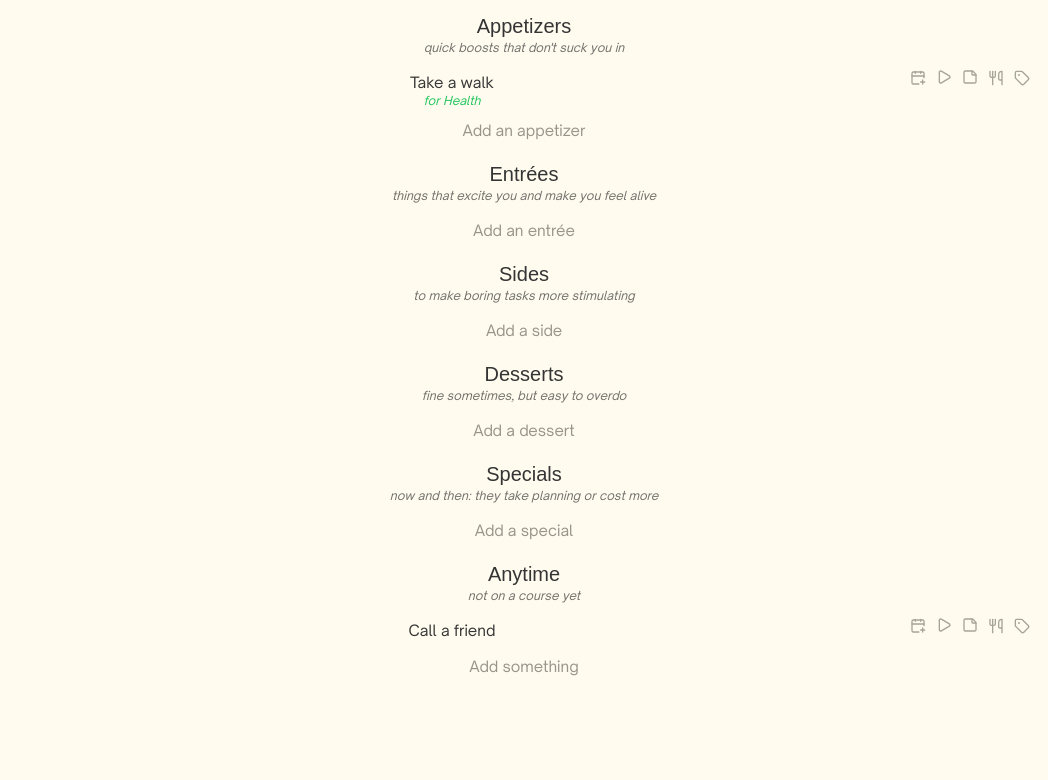
Test: DopamineMenuList › edits an item's text in place
This screenshot has width=1048, height=780.
Click the button "Take a walk". click: (452, 83)
box: [12,65,892,101]
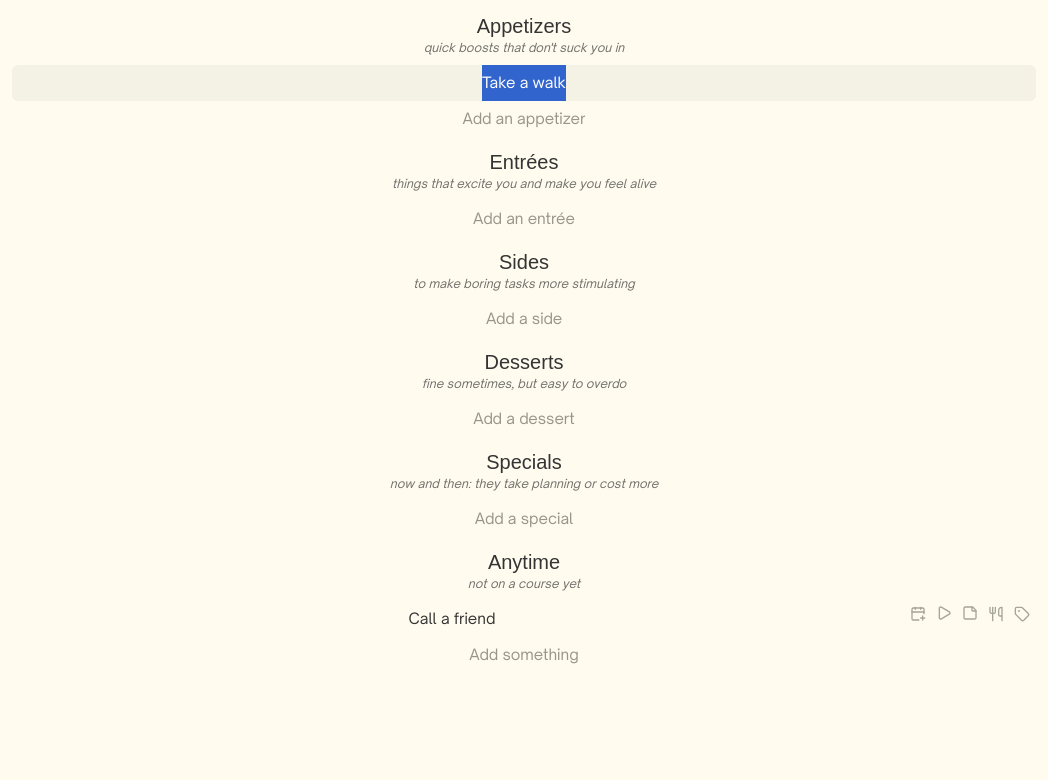
Replace the text in the text box named "Item text" with "Take a long walk". click: (524, 83)
box: [12,65,1036,101]
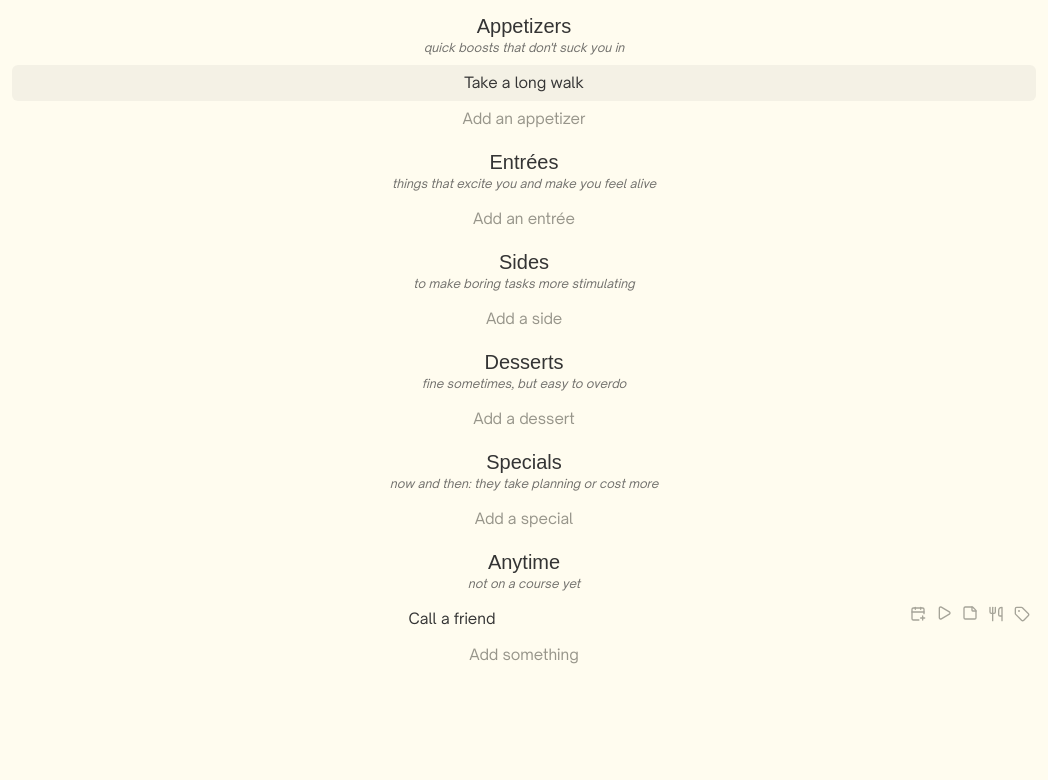
Press Enter in the text box named "Item text", box [12,65,1036,101]
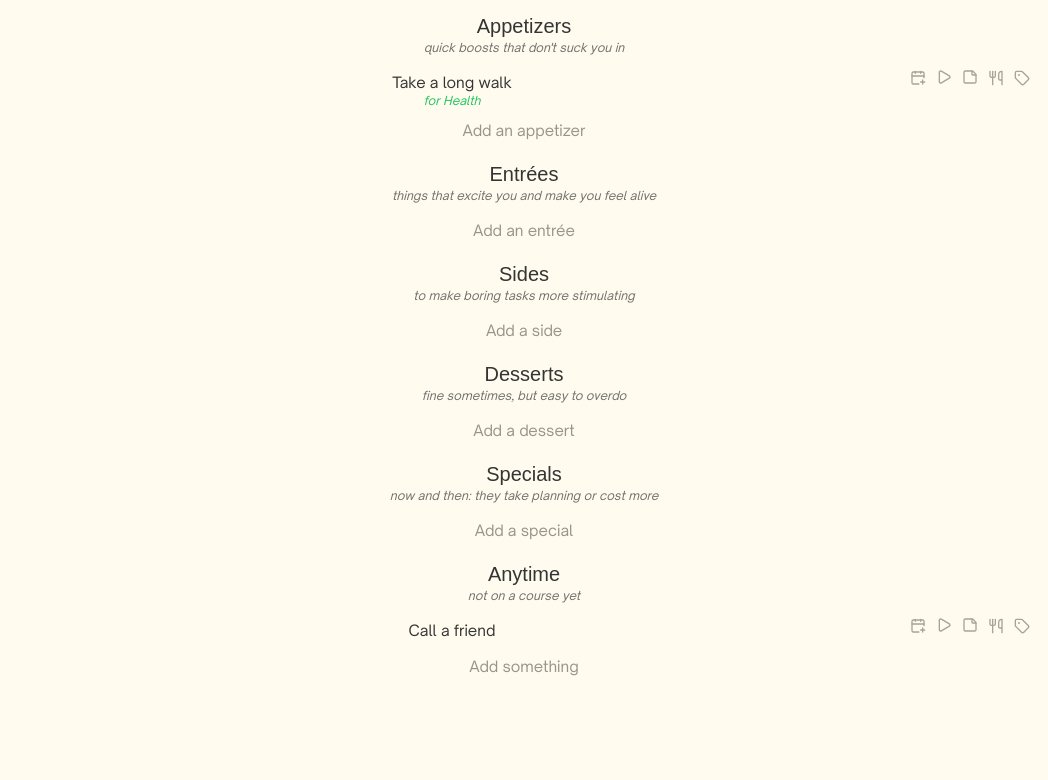
Check: the button "Take a long walk" is shown, box [12,65,892,101]
